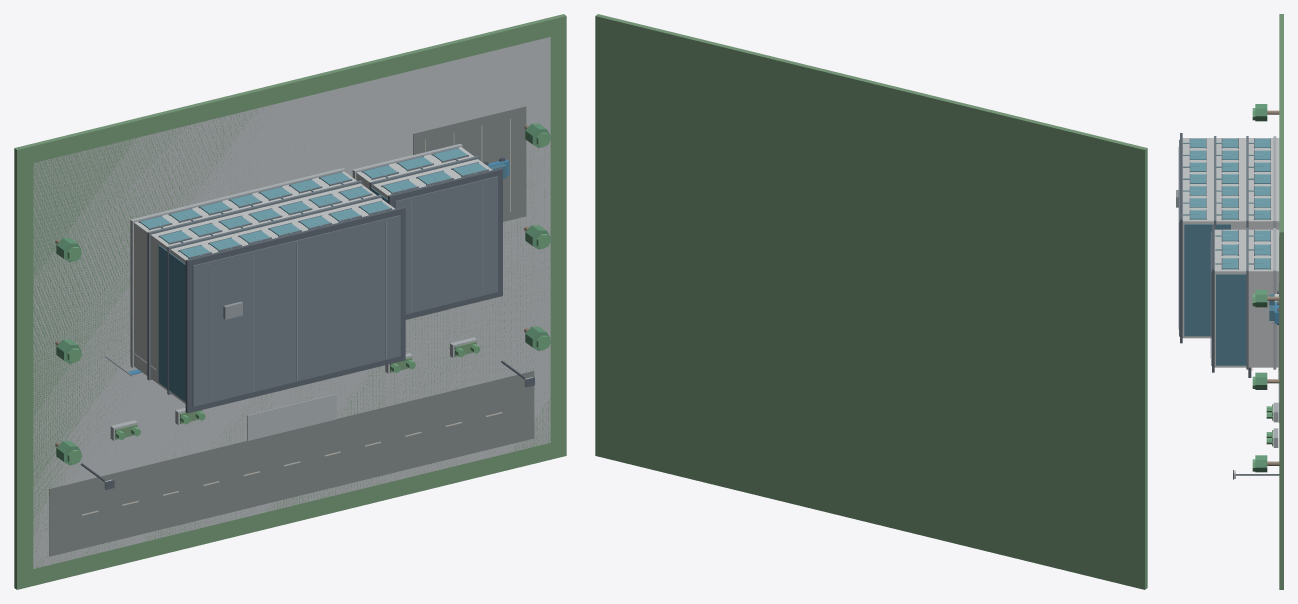
The model's file is commercial_building_level_3.glb.
The picture shows the model from 3 angles, left to right: view 1: azimuth 30°, elevation 25°; view 2: azimuth 150°, elevation 25°; view 3: azimuth 270°, elevation 25°; orthographic projection. The views are drawn at different scales.
Visible parts, largest first — view 1: part_00001, part_00000, part_00002, part_00059, part_00239, part_00054, part_00320, part_00058, part_00233, part_00351, part_00238, part_00235 (+3 smaller); view 2: part_00000; view 3: part_00054, part_00235, part_00234, part_00000, part_00291, part_00058, part_00236, part_00238, part_00237, part_00055, part_00057, part_00056 (+11 smaller).
Boxes of the visible parts, box(x1,y1,x2,y2) form: part_00001: box(33, 37, 550, 568); part_00000: box(14, 14, 566, 589); part_00002: box(49, 371, 534, 556); part_00059: box(192, 215, 400, 406); part_00239: box(395, 176, 497, 314); part_00054: box(130, 168, 394, 403); part_00320: box(413, 106, 526, 221); part_00058: box(185, 207, 405, 413); part_00233: box(158, 245, 185, 401); part_00351: box(247, 393, 336, 440); part_00238: box(388, 168, 502, 319); part_00235: box(352, 144, 492, 199); part_00000: box(595, 14, 1147, 589); part_00054: box(1182, 138, 1279, 338); part_00235: box(1214, 229, 1279, 367); part_00234: box(1184, 224, 1230, 336); part_00000: box(1279, 14, 1283, 589); part_00291: box(1216, 274, 1246, 365); part_00058: box(1180, 133, 1182, 343); part_00236: box(1273, 228, 1276, 369); part_00238: box(1212, 224, 1214, 372); part_00237: box(1246, 227, 1248, 369); part_00055: box(1273, 136, 1276, 227); part_00057: box(1214, 136, 1216, 229); part_00056: box(1246, 136, 1248, 227).
Size of the model in its own units: 68 by 52 by 14.2.
